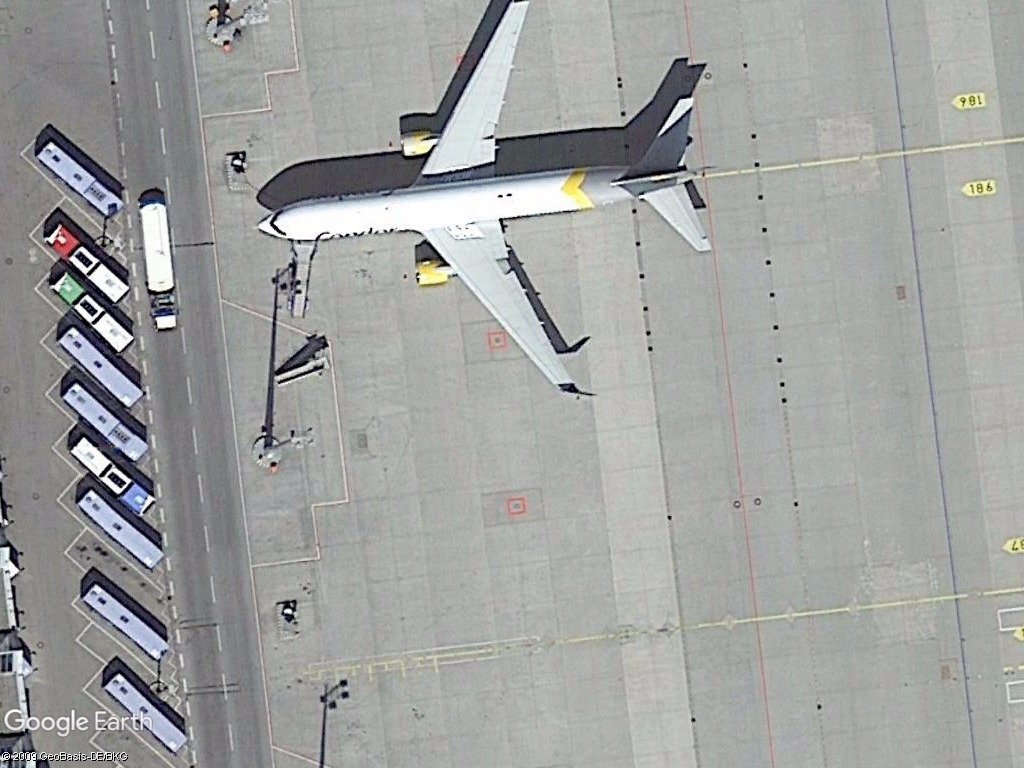airliner: (253, 0, 720, 404)
bus: (77, 575, 175, 665), (64, 430, 158, 523), (57, 379, 155, 468), (73, 484, 168, 574), (52, 324, 148, 409), (34, 135, 125, 221), (48, 267, 138, 353), (99, 668, 191, 752), (39, 221, 131, 303)
longvehicle: (137, 195, 178, 299)
